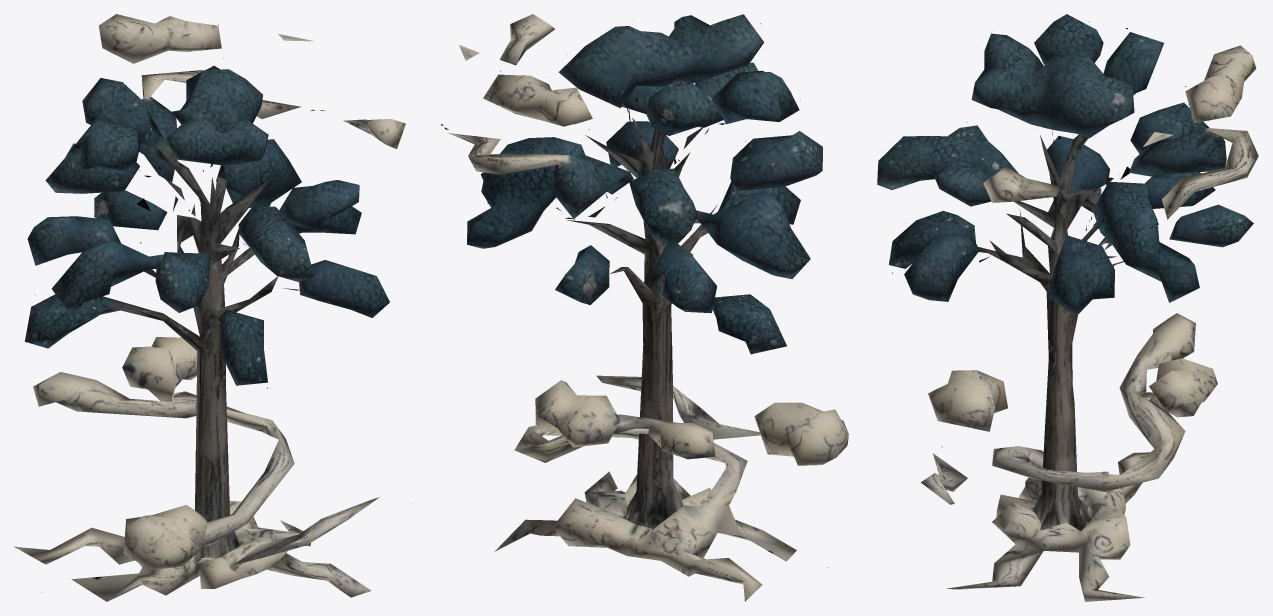
The model's file is demo_tree_shanhai.glb.
3 views of the same model, side by side, from view 1: azimuth 30°, elevation 25°; view 2: azimuth 150°, elevation 25°; view 3: azimuth 270°, elevation 25° (orthographic). The views are drawn at different scales.
Visible parts, largest first — view 1: tripo_node_117c8ac3-5430-4207-a624-3ac03c43f210.001; view 2: tripo_node_117c8ac3-5430-4207-a624-3ac03c43f210.001; view 3: tripo_node_117c8ac3-5430-4207-a624-3ac03c43f210.001.
Boxes of the visible parts, left/top/right/bottom form: tripo_node_117c8ac3-5430-4207-a624-3ac03c43f210.001: left=14, top=14, right=405, bottom=601; tripo_node_117c8ac3-5430-4207-a624-3ac03c43f210.001: left=441, top=14, right=848, bottom=601; tripo_node_117c8ac3-5430-4207-a624-3ac03c43f210.001: left=877, top=14, right=1258, bottom=601.
Bounding box in the file's own units: 0.6891 × 0.9919 × 0.6893.
1 material, 1 textured.
